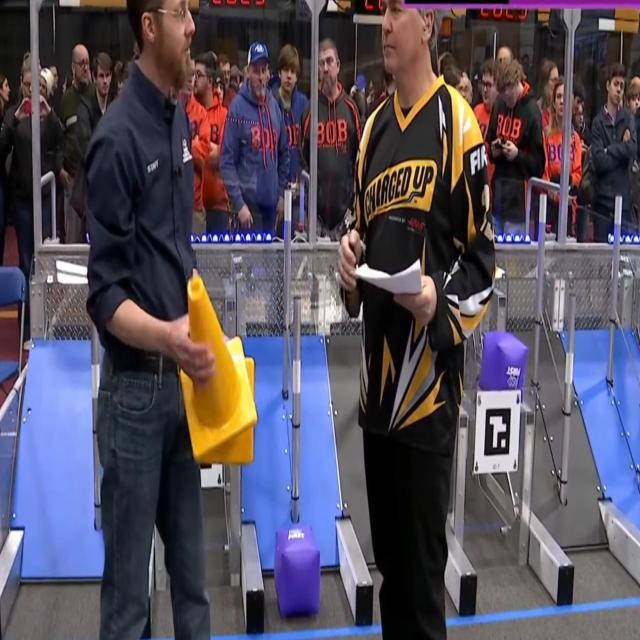frc_cone: (178, 277, 257, 444), (197, 356, 254, 464)
frc_cube: (273, 526, 321, 618), (479, 329, 526, 398)
